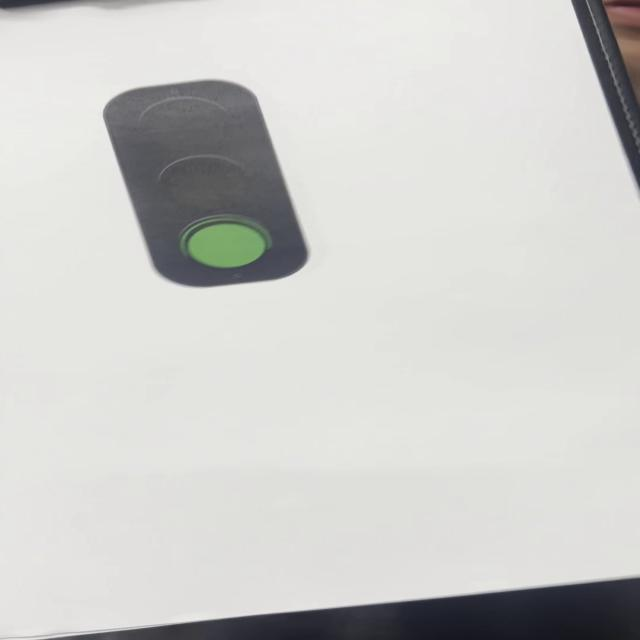green: (99, 78, 312, 289)
